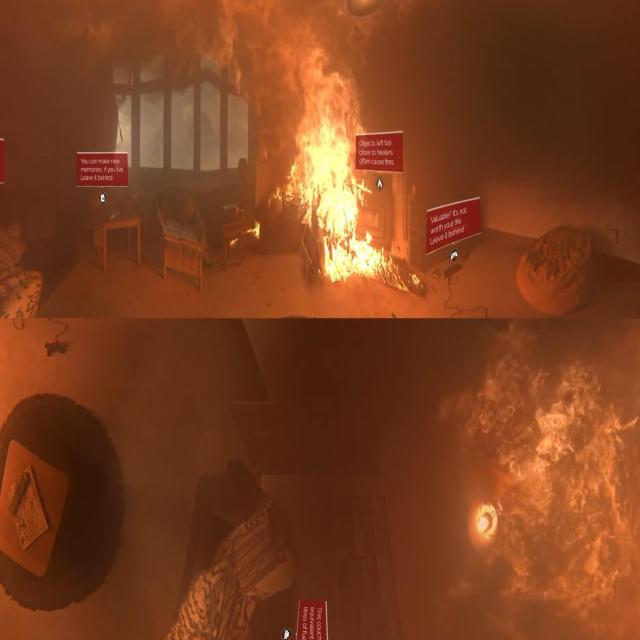smoke: (282, 83, 421, 297)
